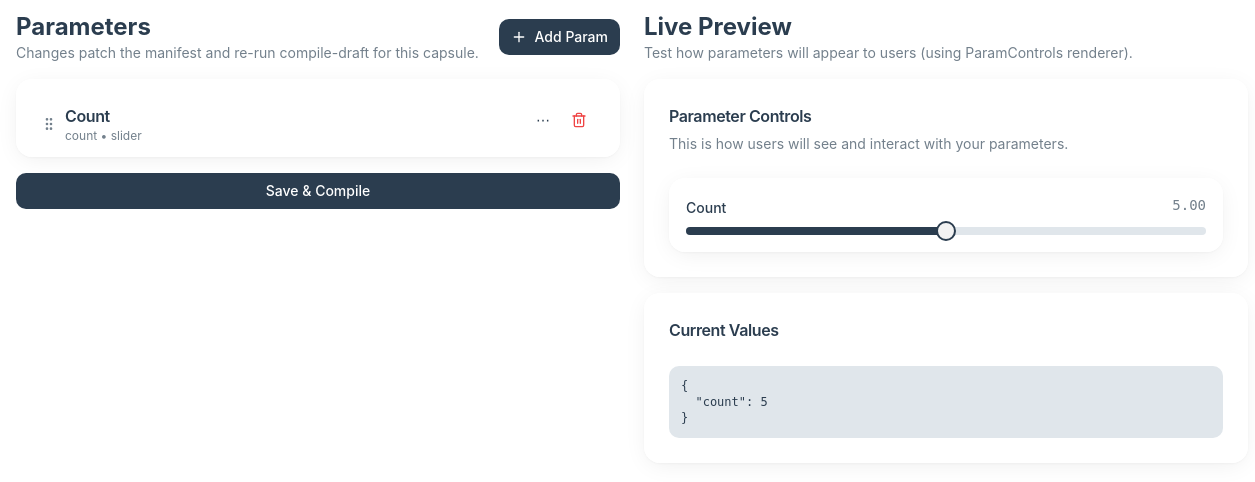
Test: ParamsTab › patches manifest params and compiles draft
This screenshot has width=1255, height=482.
Click the button "Save & Compile". click: (318, 191)
box: [16, 173, 620, 209]
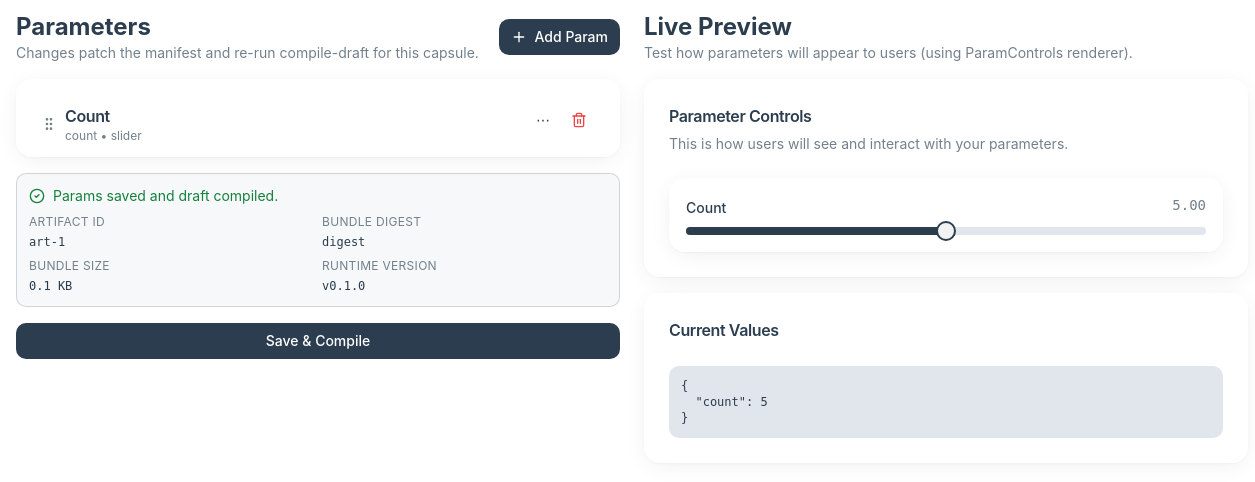
Check: the text "Params saved" is shown, box [53, 187, 278, 204]
